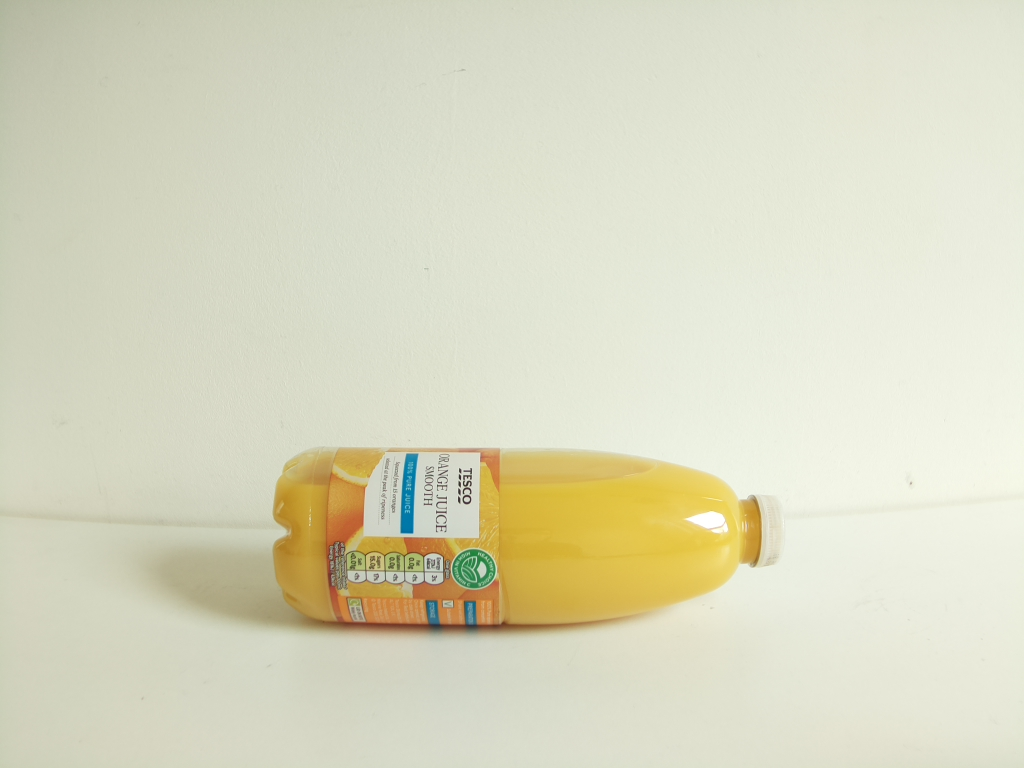juice: (268, 442, 789, 631)
